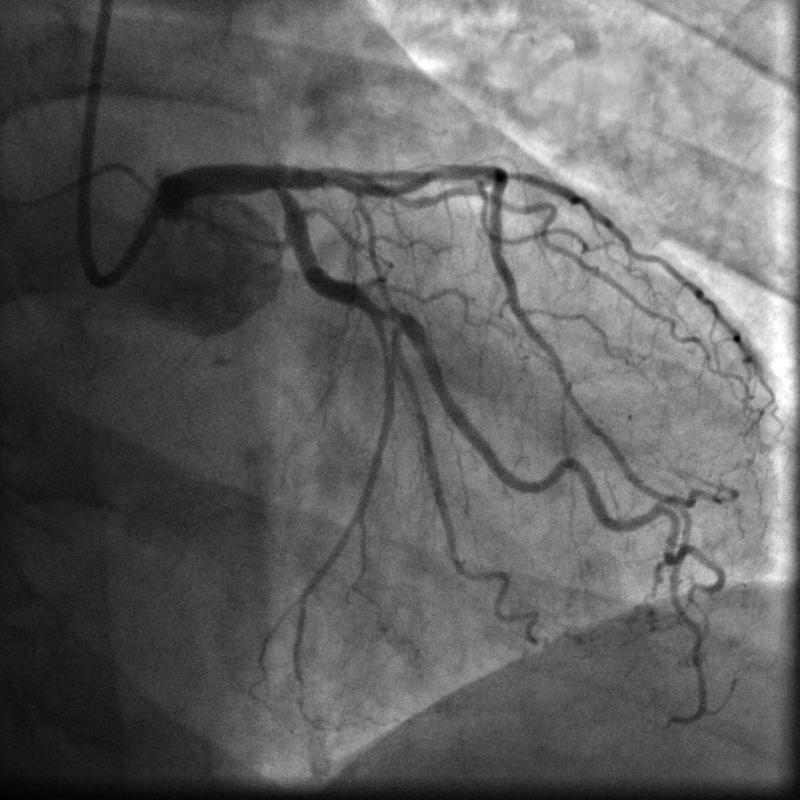Stenosis: (373, 302, 405, 326)
